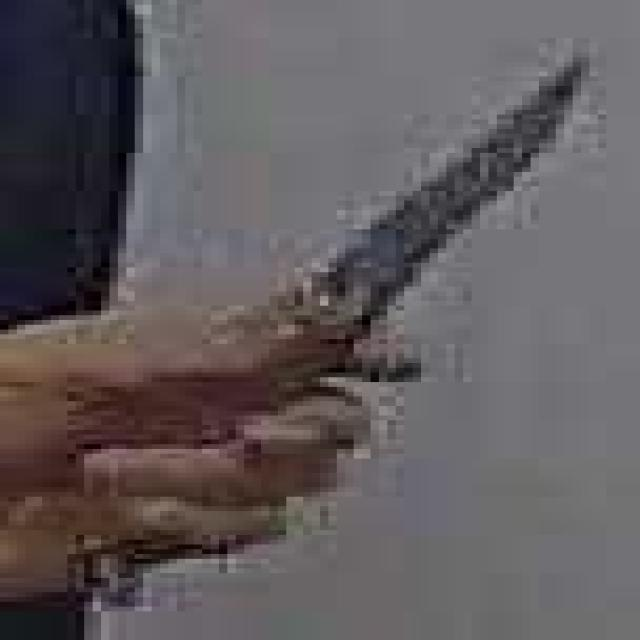Knife: (88, 49, 596, 618)
